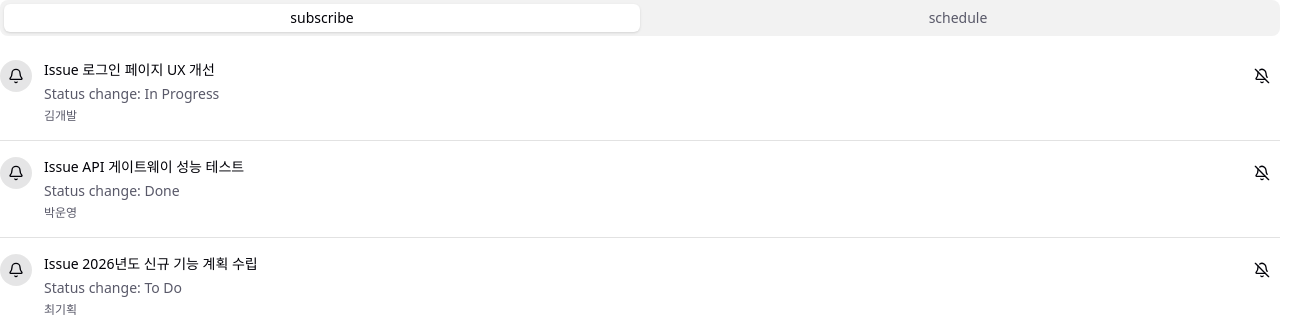
it: NotificationList › should switch between subscribe and schedule tabs
Check: the text "Issue 로그인 페이지 UX 개선" is shown, box [44,60,215,80]
Note: Click on schedule tab
Click the tab "schedule".
click(958, 18)  # box [640,4,1276,32]
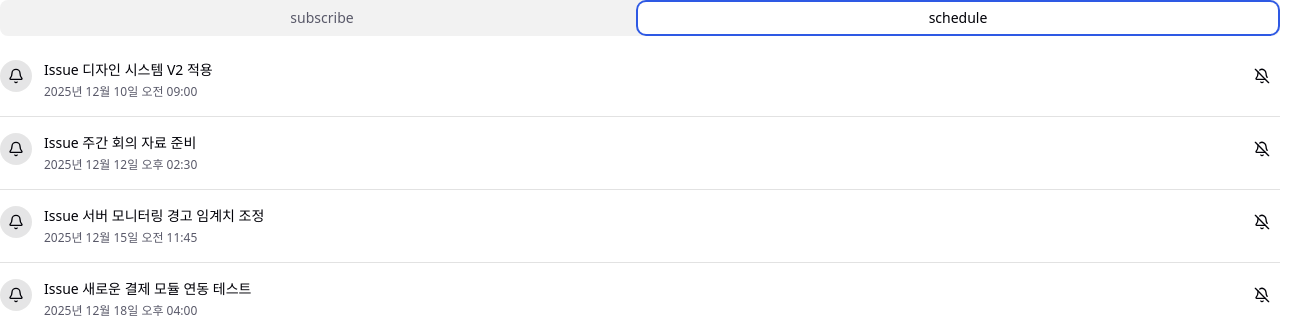
Check: the text "Issue 디자인 시스템 V2 적용" is shown, box [44,60,213,80]
Check: the text "Issue 주간 회의 자료 준비" is shown, box [44,133,196,153]
Check: the text "Issue 서버 모니터링 경고 임계치 조정" is shown, box [44,206,264,226]
